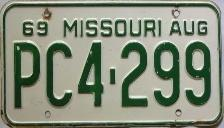2: (119, 39, 150, 109)
4: (76, 39, 108, 110)
9: (183, 41, 214, 106), (152, 41, 182, 107)
C: (44, 39, 74, 109)
P: (11, 40, 43, 111)
